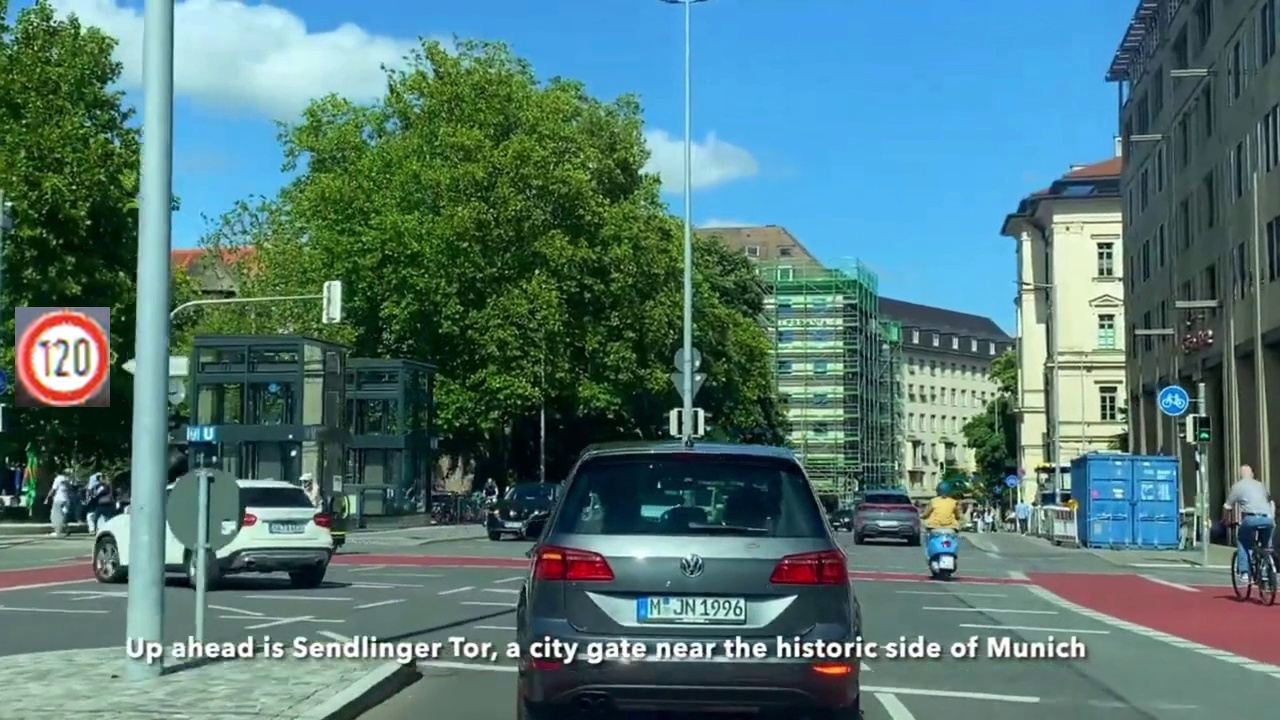Speed 120: (15, 307, 110, 407)
